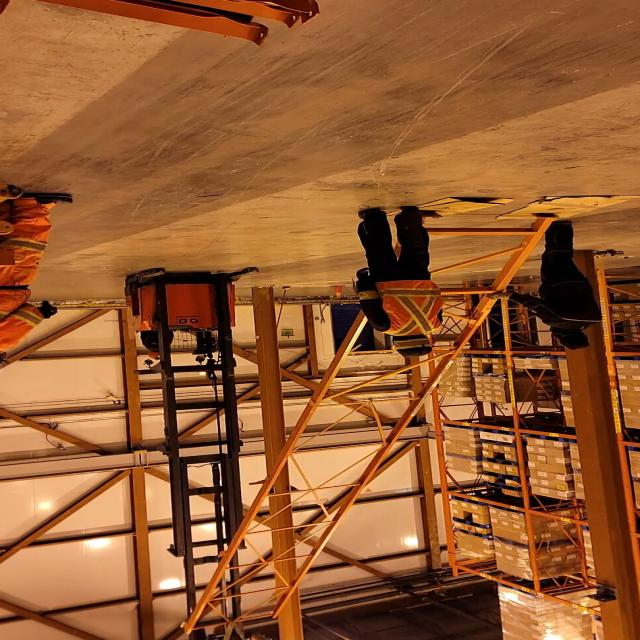forklift: (118, 267, 265, 456)
human: (484, 215, 604, 362), (352, 207, 449, 364), (0, 184, 76, 374), (132, 328, 183, 363)
objectofinterest: (176, 208, 575, 638), (493, 193, 640, 221), (376, 197, 516, 222)
